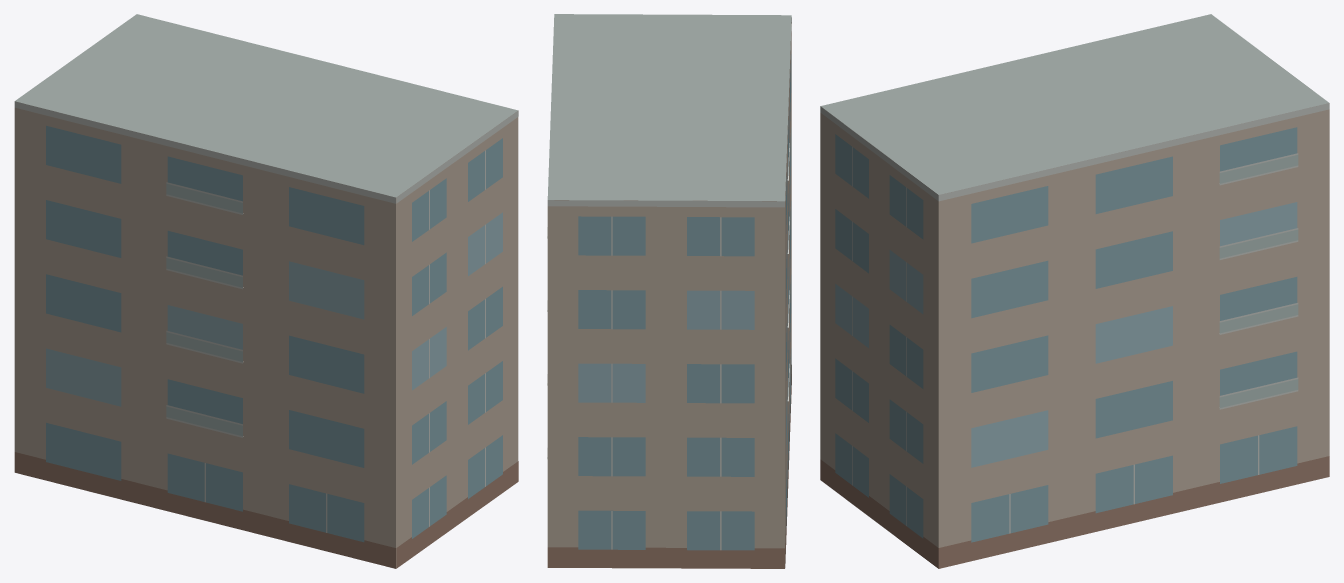
File: survey-upis-32989687.glb
3 renders of one model, left to right at view 1: azimuth 30°, elevation 25°; view 2: azimuth 150°, elevation 25°; view 3: azimuth 270°, elevation 25°, orthographic.
Visible parts, largest first — view 1: survey-upis-32989687.tmp; view 2: survey-upis-32989687.tmp; view 3: survey-upis-32989687.tmp.
Part boxes in pixels (x1,y1,x2,y2): survey-upis-32989687.tmp: (14,14,518,568); survey-upis-32989687.tmp: (547,14,791,568); survey-upis-32989687.tmp: (820,14,1329,568).
Bounding box in the file's own units: 14.86 × 14.3 × 17.66.
